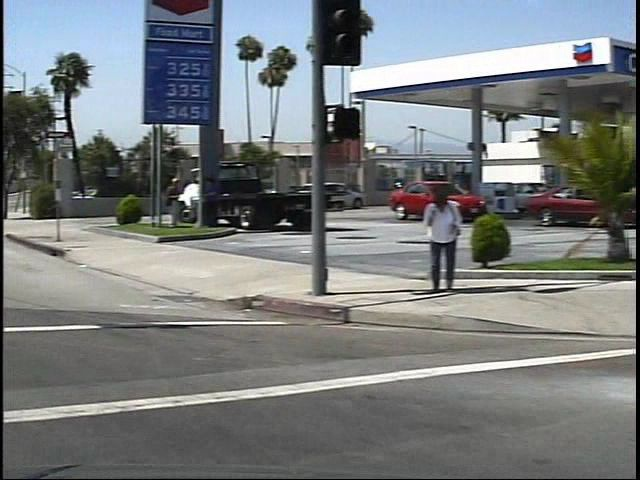person: (408, 182, 451, 295), (154, 173, 177, 231)
